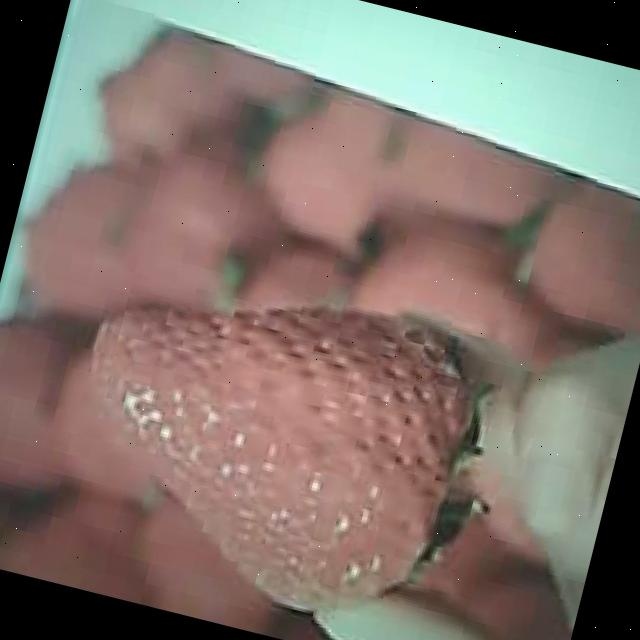strawberry: (46, 250, 494, 640)
